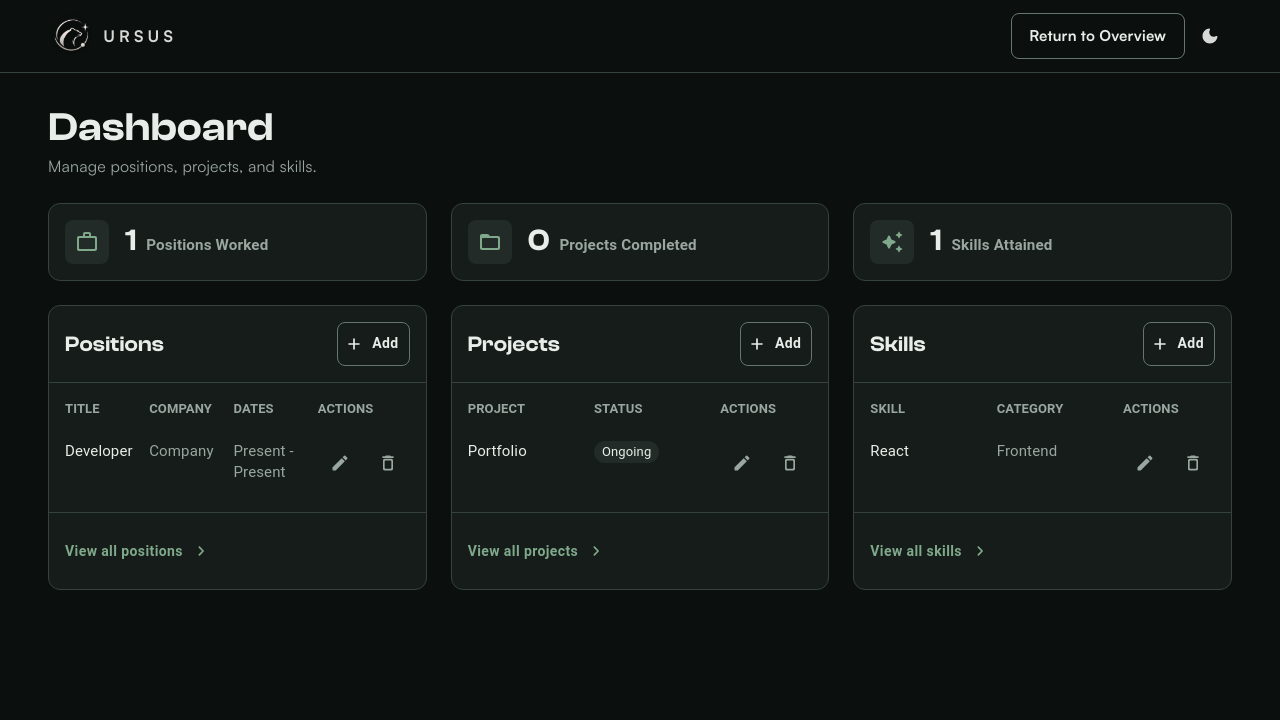
Test case: a validation error stays visible in the dialog without attempting a write
Expected: the heading "Projects" is shown, left=468, top=332, right=560, bottom=356
Click the 2nd button "Add".
click(776, 344)  # box left=740, top=322, right=812, bottom=366
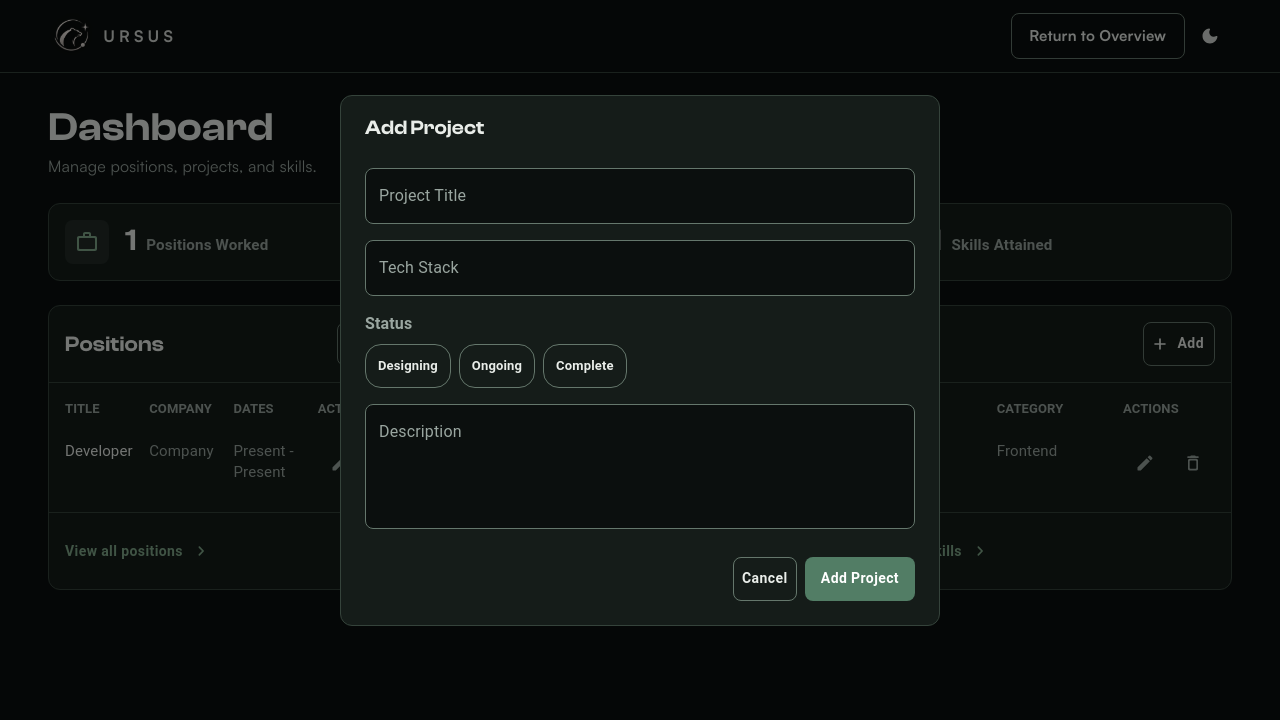
Click the button "Add Project".
click(860, 578)  # box left=805, top=556, right=915, bottom=600
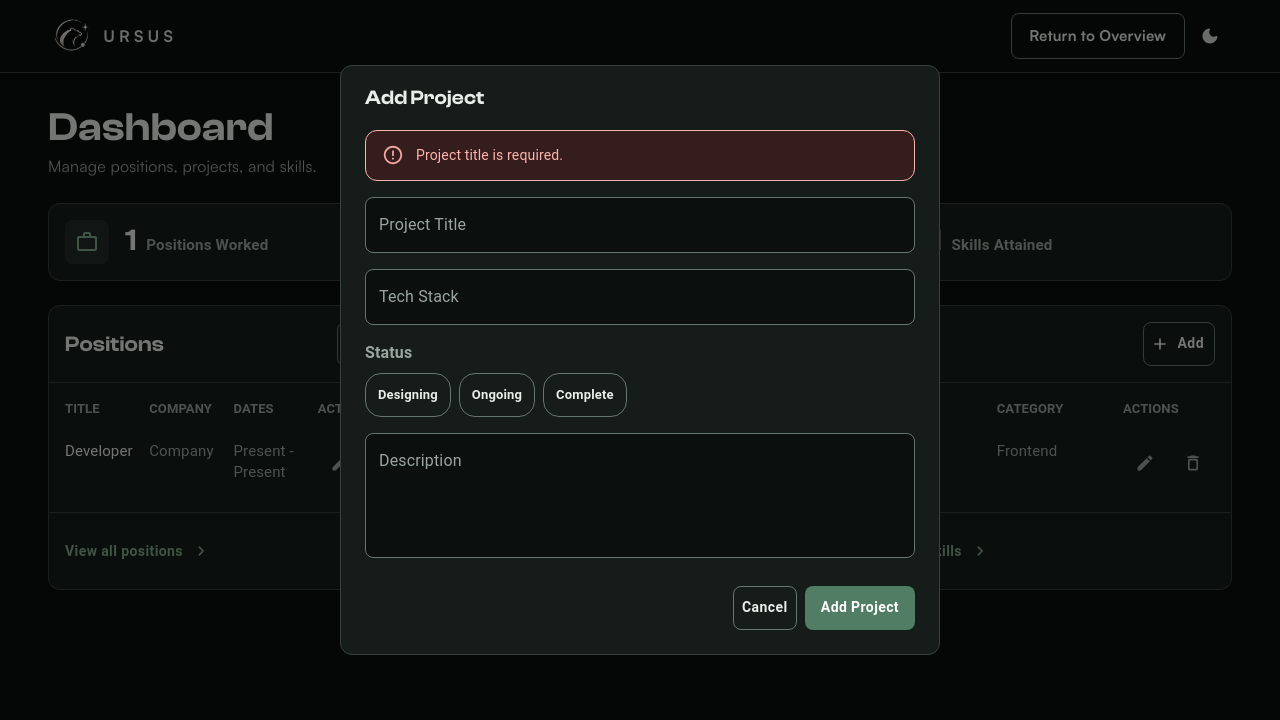
Expected: the message reads "Project title is required.", left=416, top=148, right=563, bottom=164
